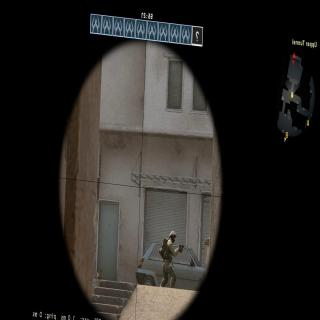CT-Body: (160, 231, 182, 278)
CT-Head: (169, 232, 177, 241)
